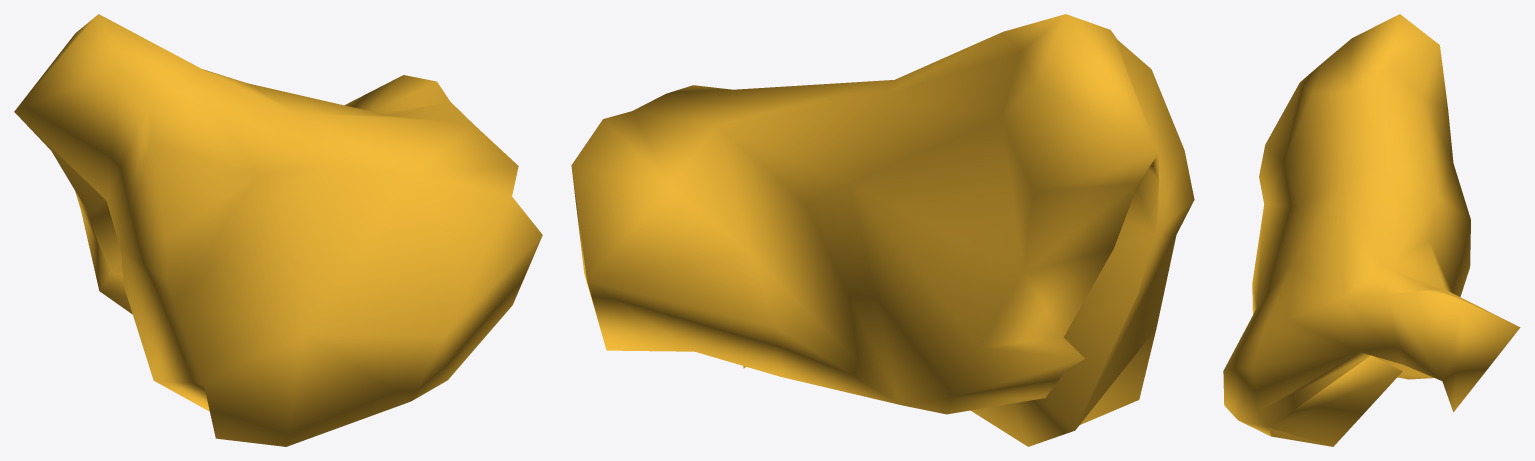
Rendered from nervoso-lat-fis-ant-vertical-r.glb.
3 views of the same model, side by side, from view 1: azimuth 30°, elevation 25°; view 2: azimuth 150°, elevation 25°; view 3: azimuth 270°, elevation 25° (orthographic). The views are drawn at different scales.
Visible parts, largest first — view 1: Lat_Fis-ant-Vertical.r; view 2: Lat_Fis-ant-Vertical.r; view 3: Lat_Fis-ant-Vertical.r.
Part boxes in pixels (x1,y1,x2,y2): Lat_Fis-ant-Vertical.r: (14, 14, 542, 446); Lat_Fis-ant-Vertical.r: (571, 14, 1194, 446); Lat_Fis-ant-Vertical.r: (1223, 14, 1520, 446).
Bounding box in the file's own units: 0.0153 × 0.0131 × 0.0107.
